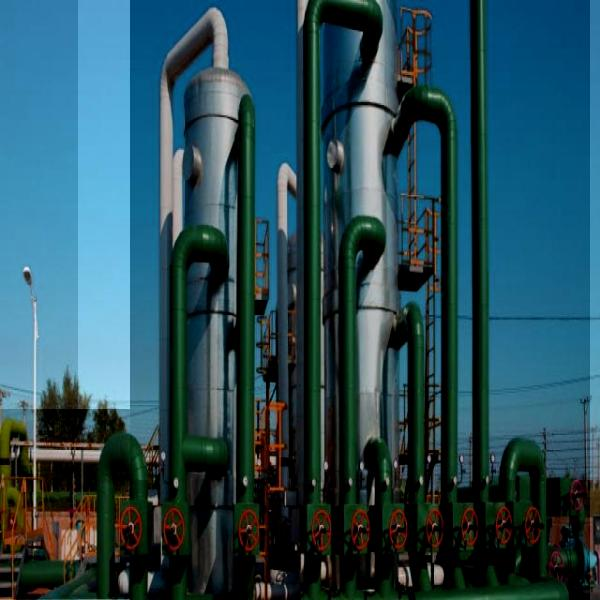no leak: (78, 0, 578, 600), (130, 0, 590, 600), (0, 409, 152, 599)
